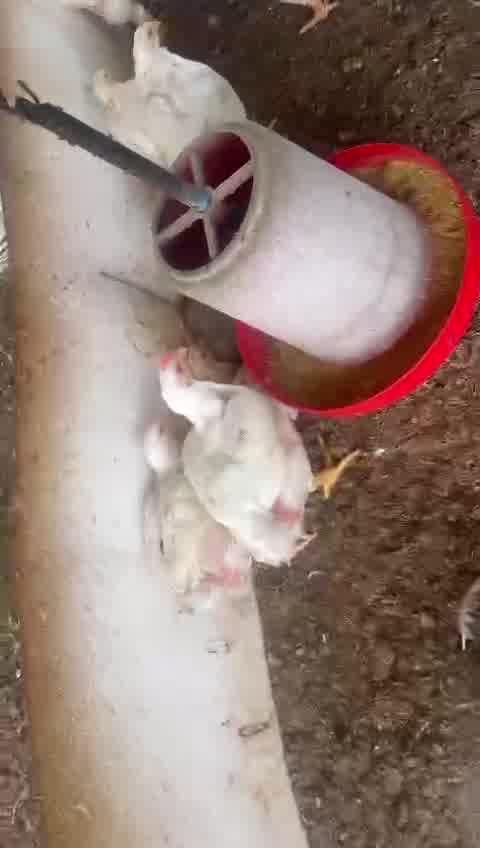AbNormal: (67, 52, 159, 154)
Normal: (160, 343, 351, 560), (133, 18, 258, 137), (140, 419, 224, 592)
